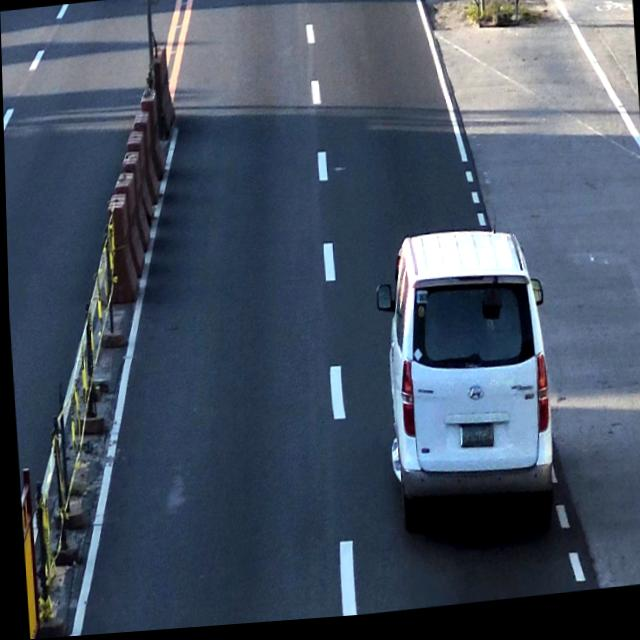Car: (379, 228, 552, 540)
License-Plate: (457, 429, 492, 461)
